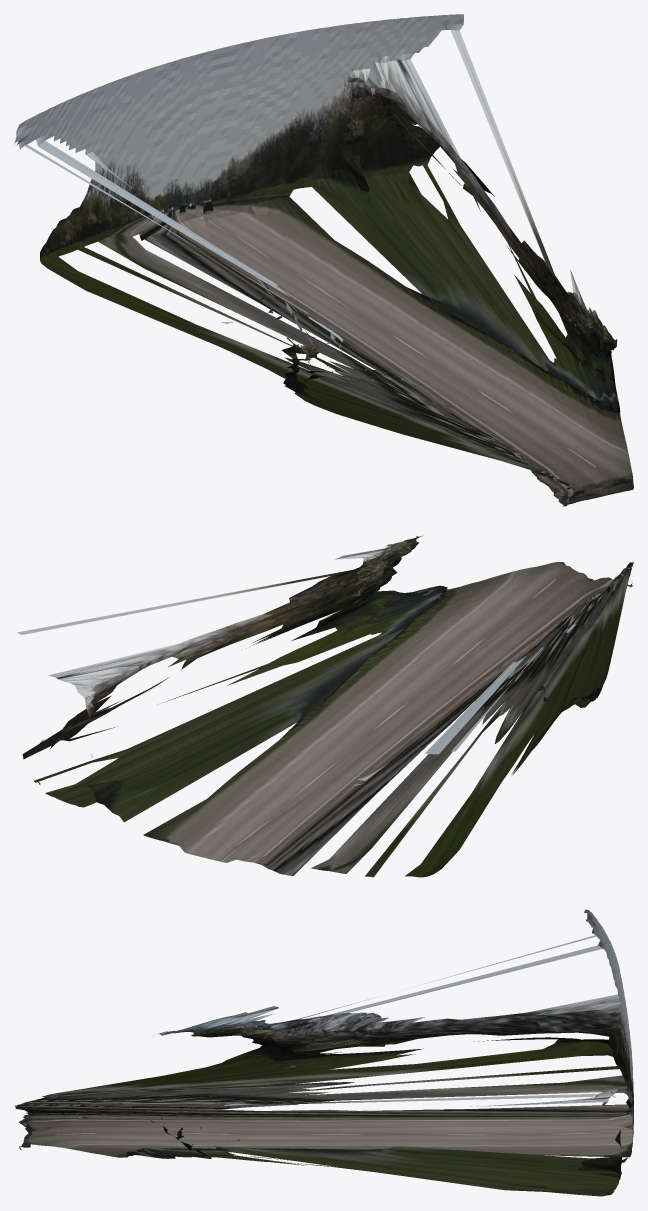
The picture shows the model from 3 angles, top to bottom: view 1: azimuth 30°, elevation 25°; view 2: azimuth 150°, elevation 25°; view 3: azimuth 270°, elevation 25°; orthographic projection. The views are drawn at different scales.
Visible parts, largest first — view 1: defaultobject; view 2: defaultobject; view 3: defaultobject.
Part boxes in pixels (bbox=[...]): defaultobject: bbox=[14, 14, 633, 506]; defaultobject: bbox=[17, 536, 633, 877]; defaultobject: bbox=[15, 909, 633, 1196].
Bounding box in the file's own units: 30.56 × 11.71 × 44.92.
1 material, 1 textured.
